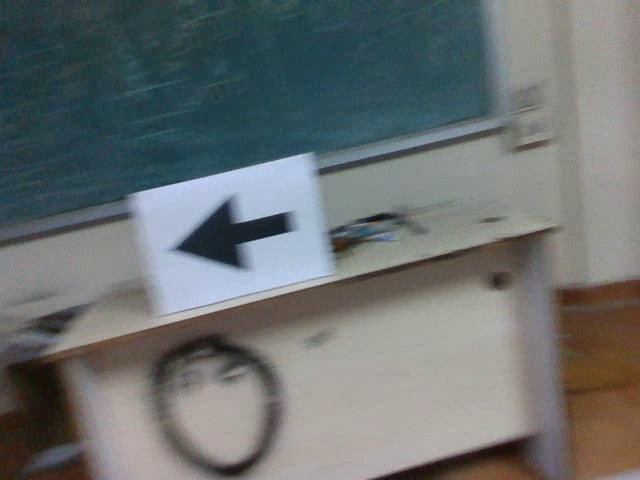Left: (164, 189, 304, 273)
